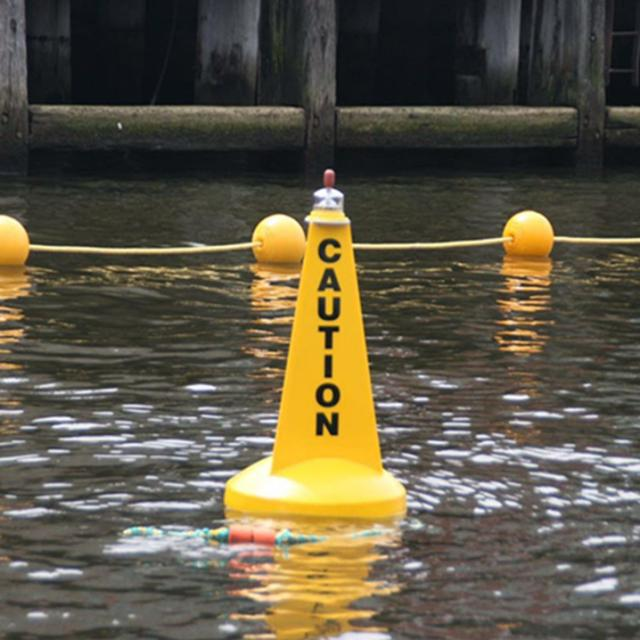buoy: (226, 170, 414, 534)
